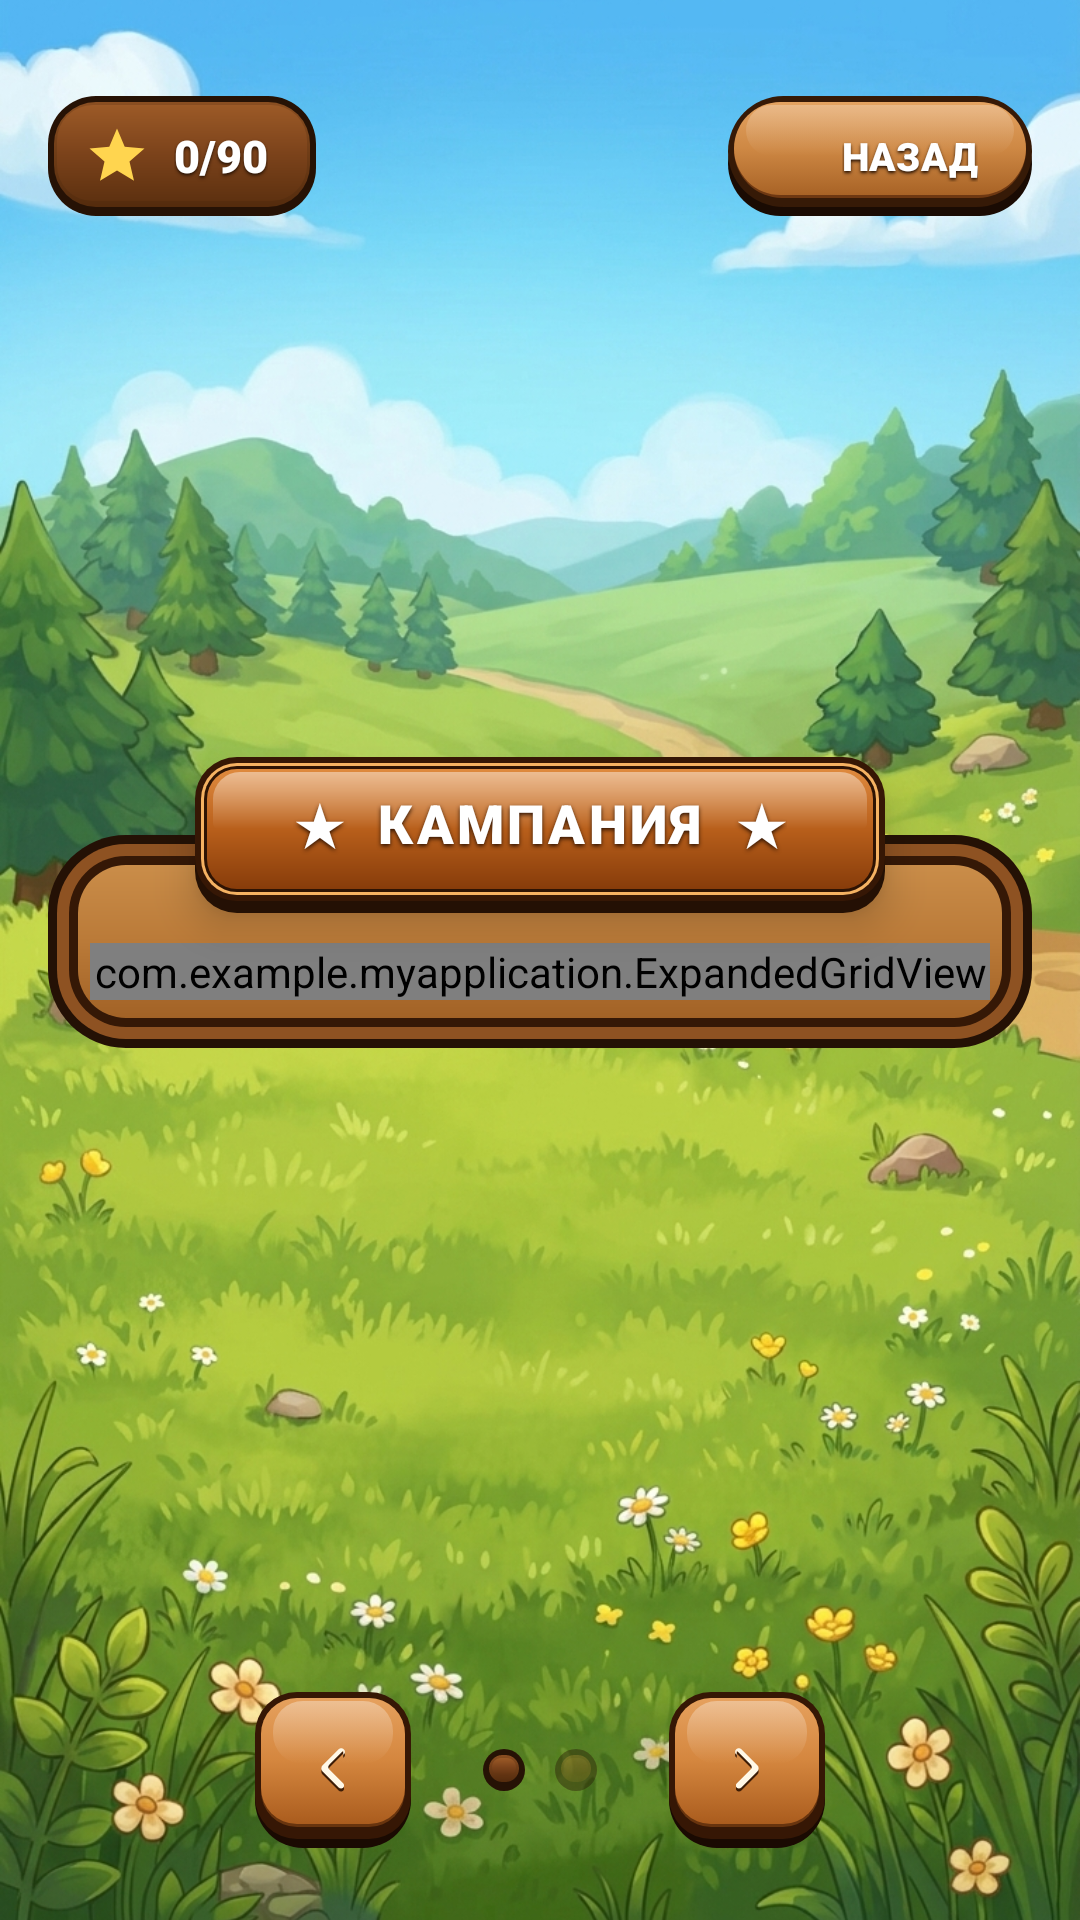

Where to tap for icons on this 1080px x 1920px app screen, as [x,y]:
star gold: [117,156]
Предыдущая страница: [333,1770]
Следующая страница: [747,1770]
